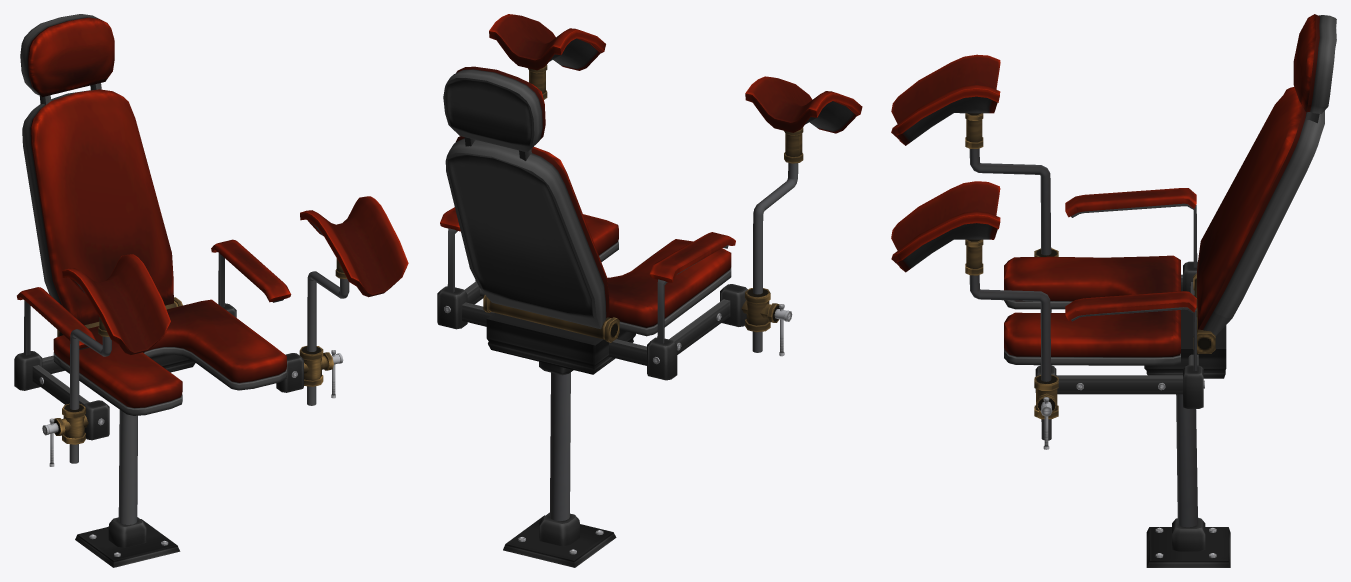
Rendered from bunbenisu.obj.
3 renders of one model, left to right at view 1: azimuth 30°, elevation 25°; view 2: azimuth 150°, elevation 25°; view 3: azimuth 270°, elevation 25°, orthographic. The views are drawn at different scales.
Bounding box in the file's own units: 1.15 × 1.74 × 1.34.
2 materials, 2 textured.
